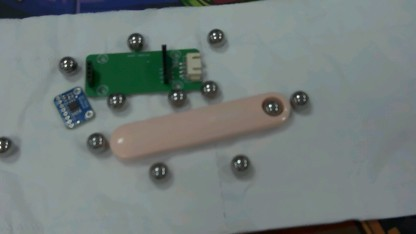ironball: (226, 149, 252, 174), (286, 86, 311, 111), (55, 53, 81, 76), (106, 91, 129, 114), (204, 26, 226, 48), (145, 160, 166, 183), (125, 29, 144, 51), (199, 80, 219, 100), (166, 86, 187, 105), (262, 99, 280, 118), (88, 133, 104, 150), (0, 134, 13, 153)
